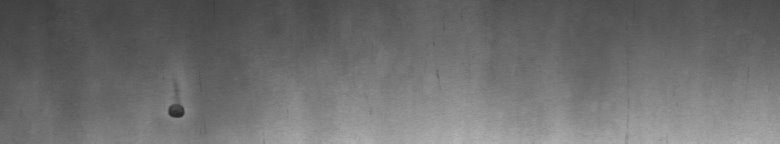fi: (161, 78, 192, 124)
